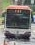bus: (14, 8, 22, 14)
